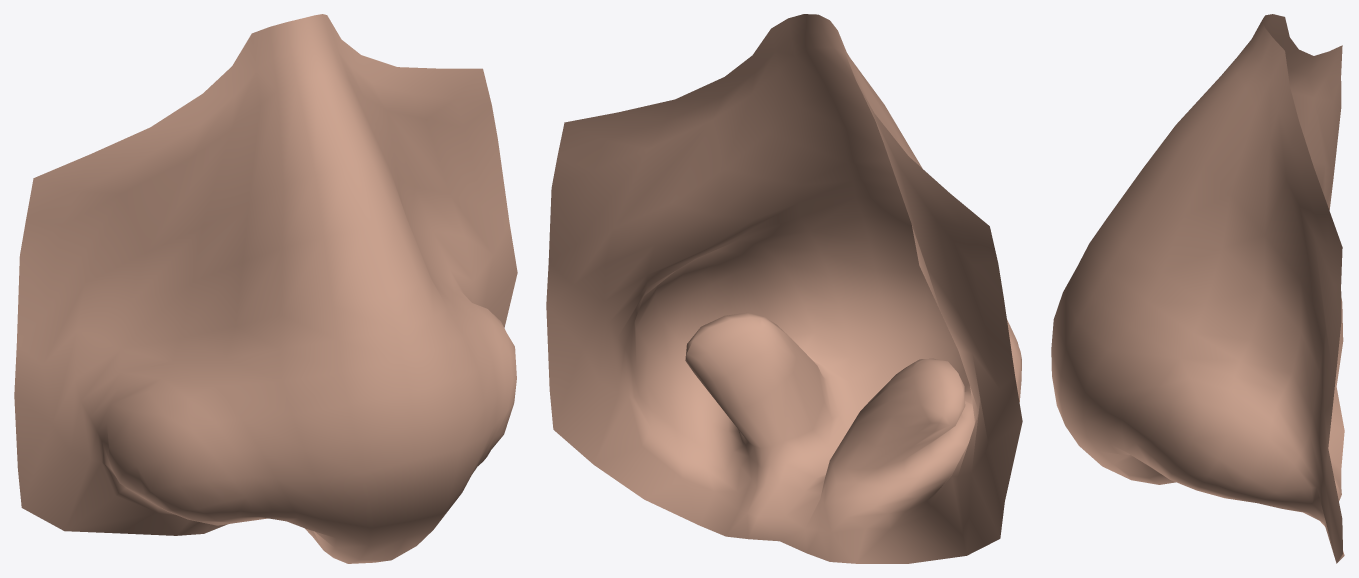
The model's file is nose_2.fbx.
The picture shows the model from 3 angles, left to right: view 1: azimuth 30°, elevation 25°; view 2: azimuth 150°, elevation 25°; view 3: azimuth 270°, elevation 25°; orthographic projection. The views are drawn at different scales.
Visible parts, largest first — view 1: pasted__nose; view 2: pasted__nose; view 3: pasted__nose.
Boxes of the visible parts, left/top/right/bottom form: pasted__nose: left=14, top=14, right=517, bottom=563; pasted__nose: left=546, top=14, right=1022, bottom=563; pasted__nose: left=1051, top=14, right=1344, bottom=563.
Size of the model in its own units: 0.0983 by 0.0995 by 0.0539.
